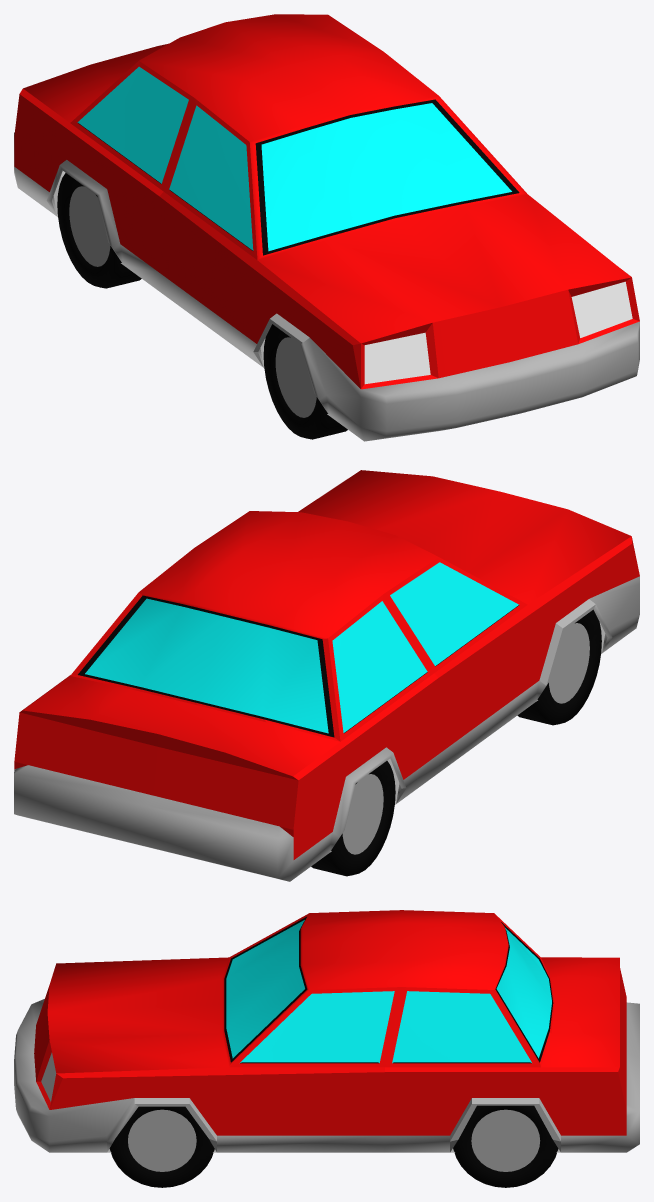
The model's file is Car.obj.
3 renders of one model, top to bottom at view 1: azimuth 30°, elevation 25°; view 2: azimuth 150°, elevation 25°; view 3: azimuth 270°, elevation 25°, orthographic. The views are drawn at different scales.
Visible parts, largest first — view 1: Car_Cube; view 2: Car_Cube; view 3: Car_Cube.
Boxes of the visible parts, x1,y1,x2,y2 form: Car_Cube: (14, 14, 639, 441); Car_Cube: (14, 470, 639, 881); Car_Cube: (14, 910, 639, 1187).
Size of the model in its own units: 2.1 by 1.59 by 4.66.
